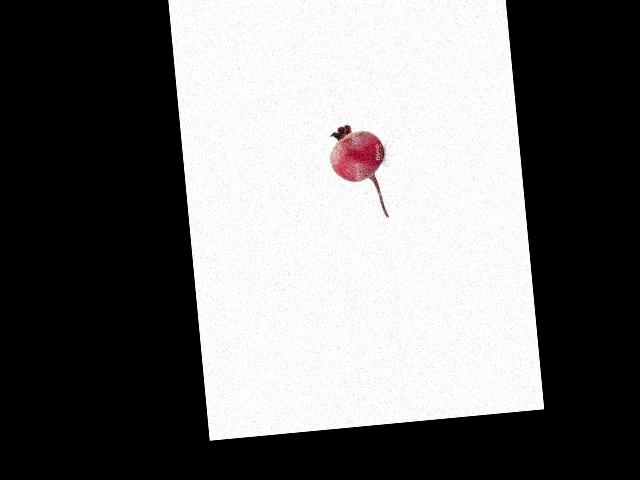beet: (327, 121, 390, 221)
